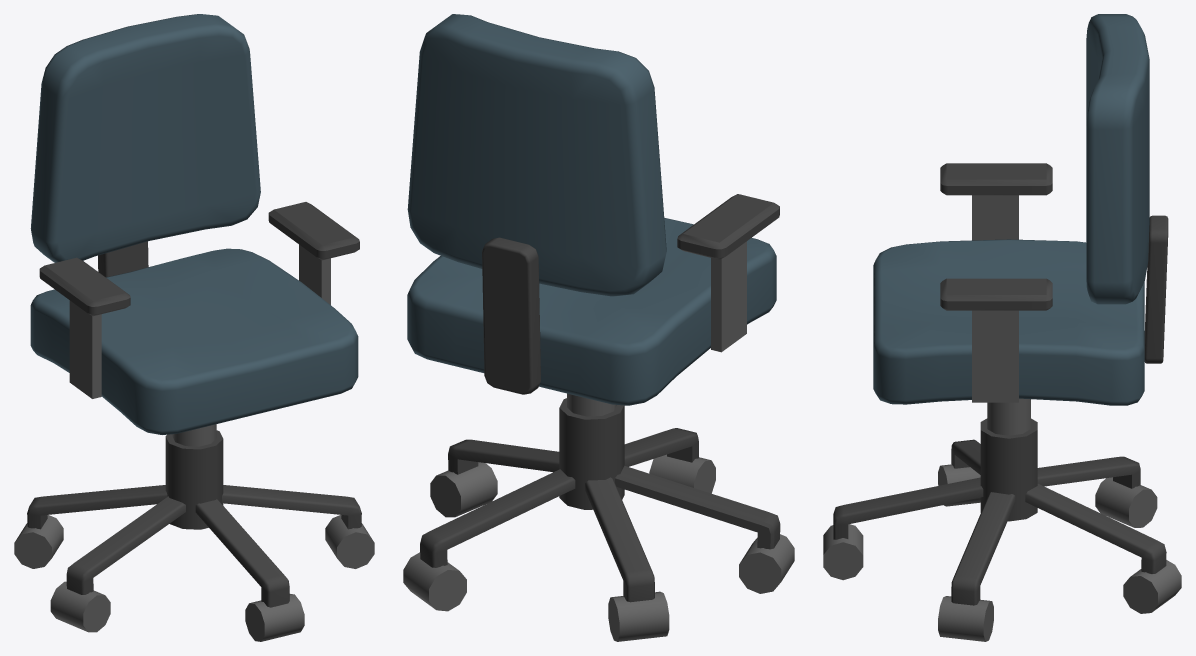
Rendered from Corwd_OfficeChail_02.fbx.
3 views of the same model, side by side, from view 1: azimuth 30°, elevation 25°; view 2: azimuth 150°, elevation 25°; view 3: azimuth 270°, elevation 25° (orthographic). The views are drawn at different scales.
Visible parts, largest first — view 1: Corwd_OfficeChail_02; view 2: Corwd_OfficeChail_02; view 3: Corwd_OfficeChail_02.
Boxes of the visible parts, x1,y1,x2,y2 form: Corwd_OfficeChail_02: (14,14,374,641); Corwd_OfficeChail_02: (403,14,794,641); Corwd_OfficeChail_02: (823,14,1181,641).
Bounding box in the file's own units: 126 × 195 × 122.
